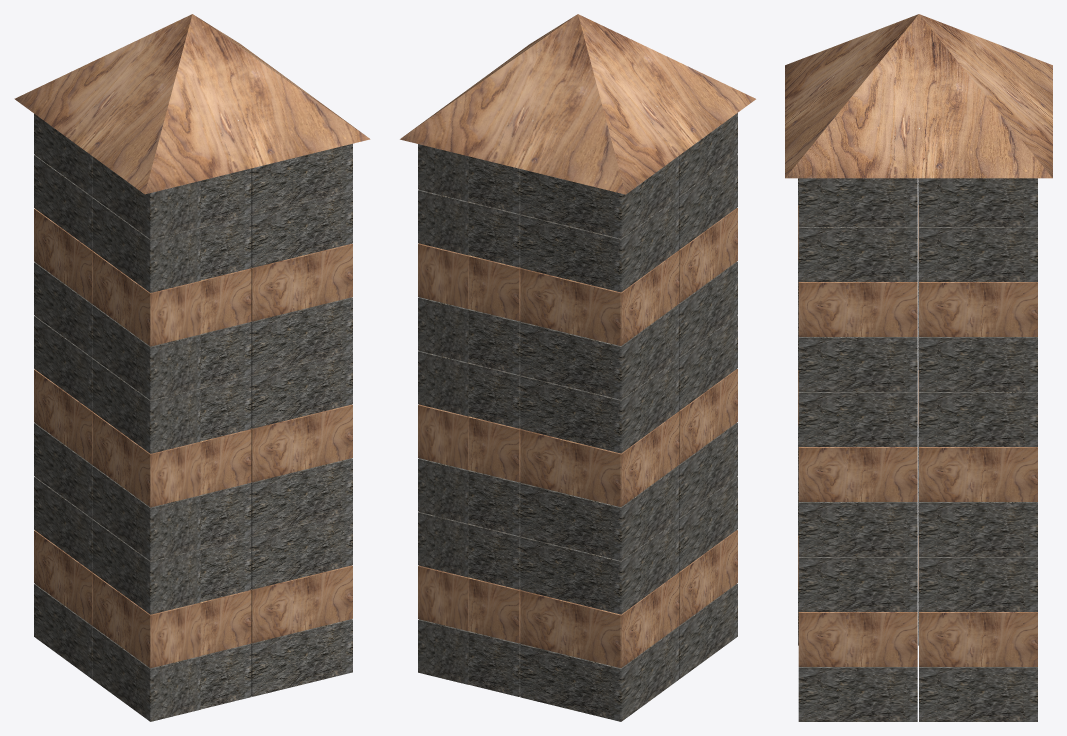
File: wieza2.fbx
The picture shows the model from 3 angles, left to right: view 1: azimuth 30°, elevation 25°; view 2: azimuth 150°, elevation 25°; view 3: azimuth 270°, elevation 25°; orthographic projection. The views are drawn at different scales.
Parts seen in each view (by area): view 1: wieza2; view 2: wieza2; view 3: wieza2.
Boxes of the visible parts, <box> form: wieza2: <box>14,14,370,721</box>; wieza2: <box>400,14,755,721</box>; wieza2: <box>785,14,1052,721</box>.
Bounding box in the file's own units: 177 × 480 × 177.
